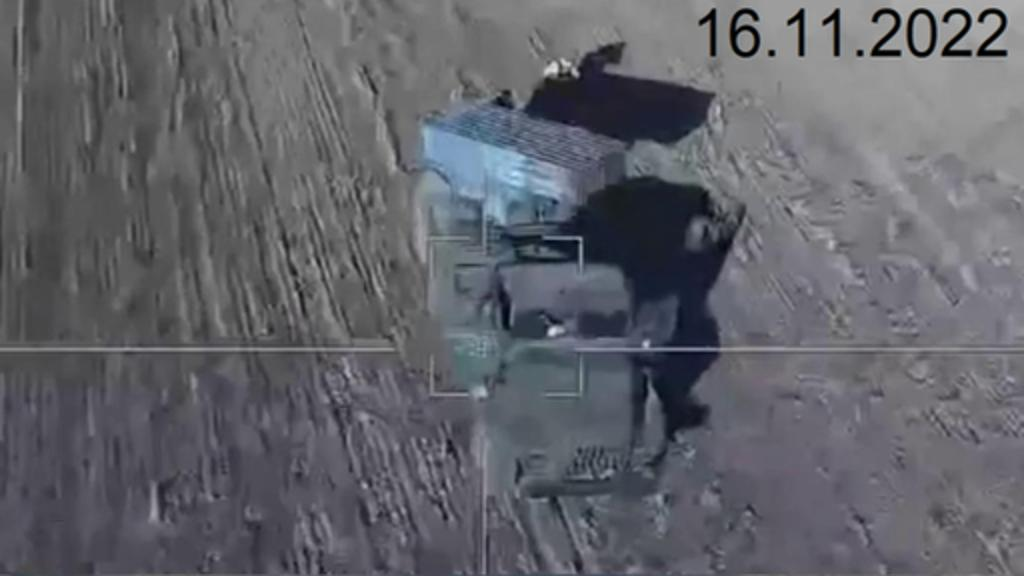MLRS: (386, 94, 682, 502)
